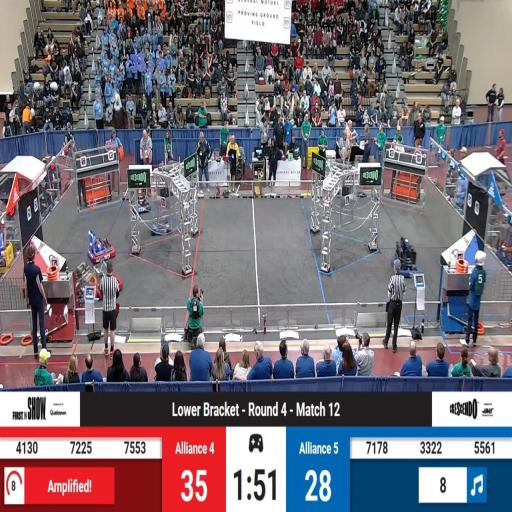robot: (74, 262, 109, 304), (391, 238, 419, 278), (87, 232, 114, 263), (133, 194, 151, 214)
